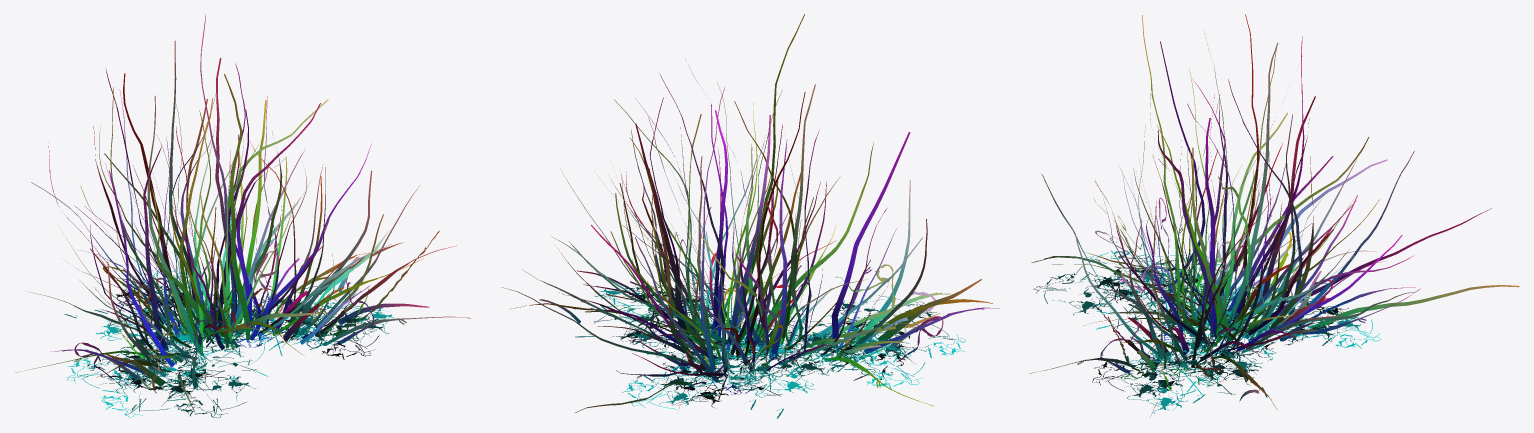
Rendered from Wild_Grass_vczndjqja_Raw_vczndjqja_VarG_LOD0.fbx.
3 renders of one model, left to right at view 1: azimuth 30°, elevation 25°; view 2: azimuth 150°, elevation 25°; view 3: azimuth 270°, elevation 25°, orthographic. The views are drawn at different scales.
Visible parts, largest first — view 1: _ruzo_VarG_High; view 2: _ruzo_VarG_High; view 3: _ruzo_VarG_High.
Boxes of the visible parts, left/top/right/bottom form: _ruzo_VarG_High: left=15, top=14, right=470, bottom=418; _ruzo_VarG_High: left=501, top=14, right=999, bottom=418; _ruzo_VarG_High: left=1030, top=14, right=1519, bottom=416.
Bounding box in the file's own units: 117 × 84.89 × 122.
